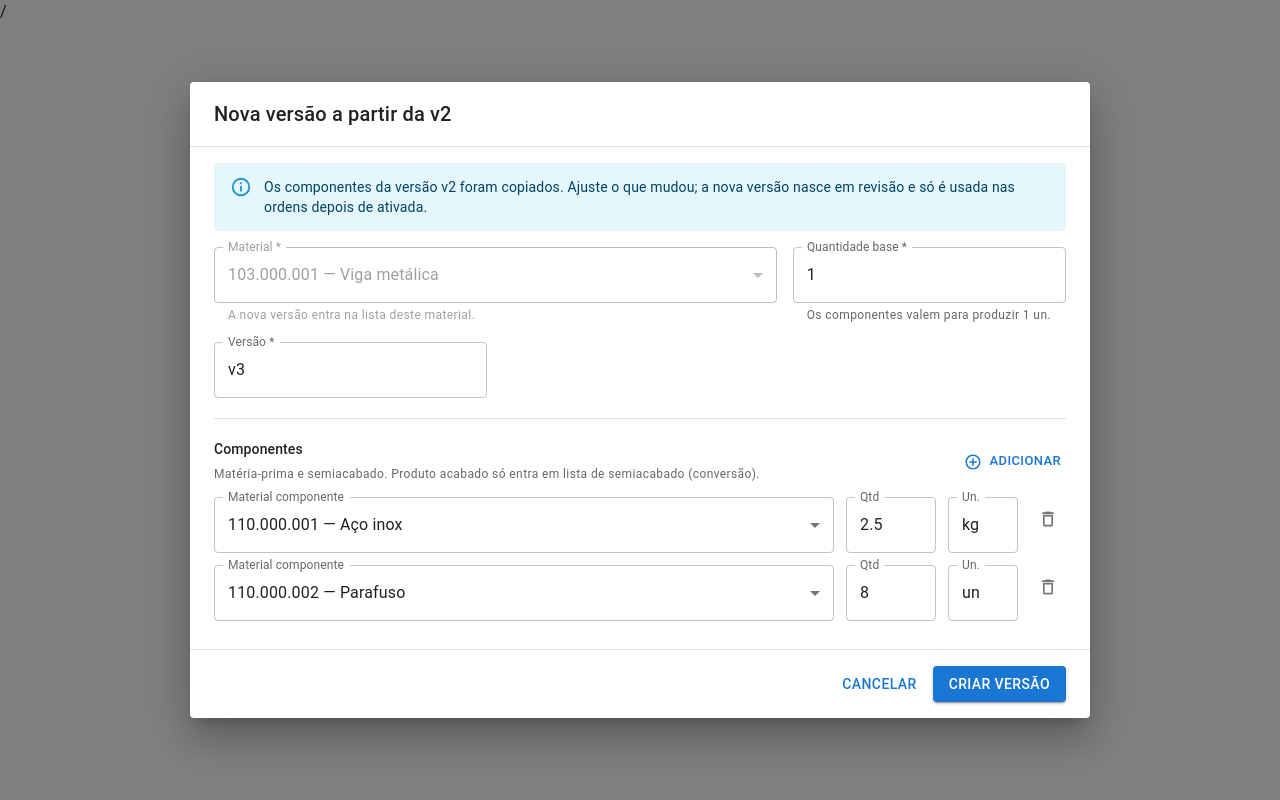
it: CriarListaTecnicaDialog › a partir de uma versão › mostra o motivo quando o sistema recusa (versão repetida) e não fecha
Check: the heading "Nova versão a partir da v2" is shown, box [214,102,452,126]
Click the button "Criar versão" at (999, 684), box [933,666,1066,702]
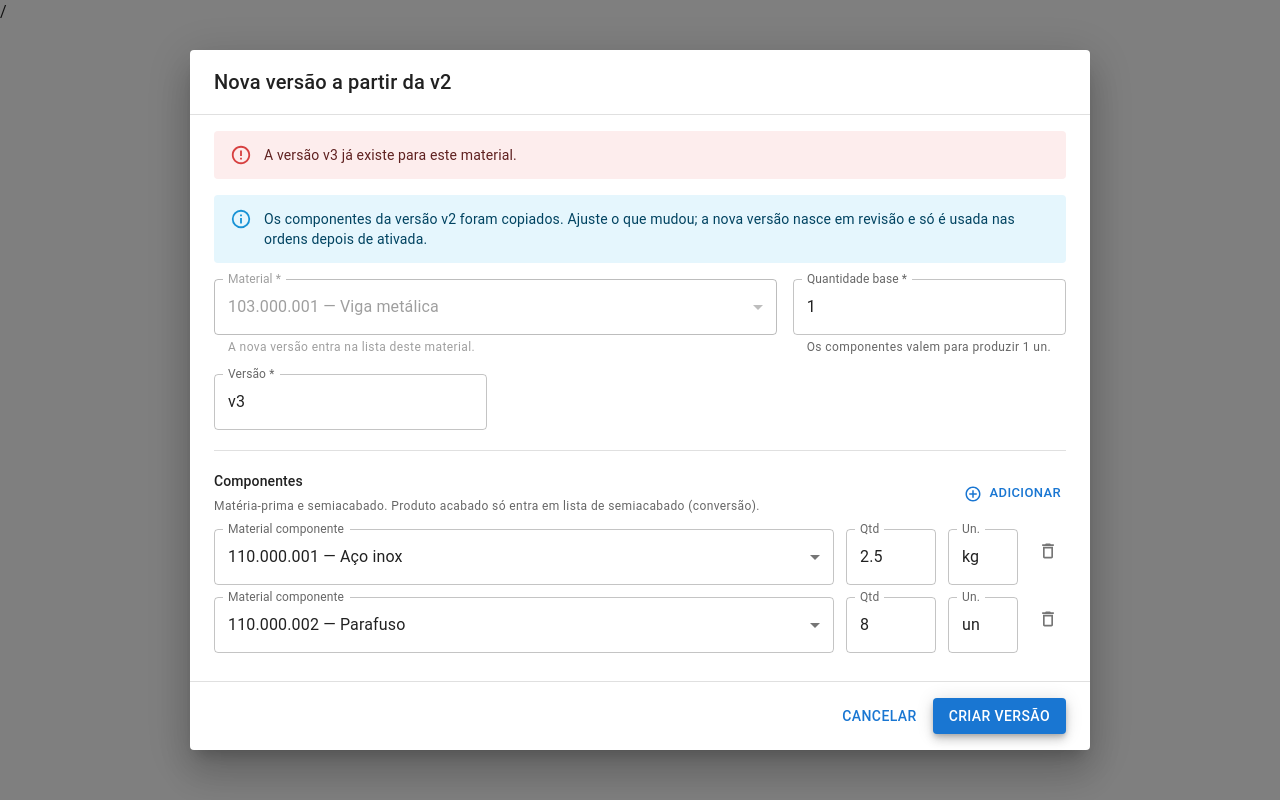
Check: the text "A versão v3 já existe para este material." is shown, box [264,147,517,163]
